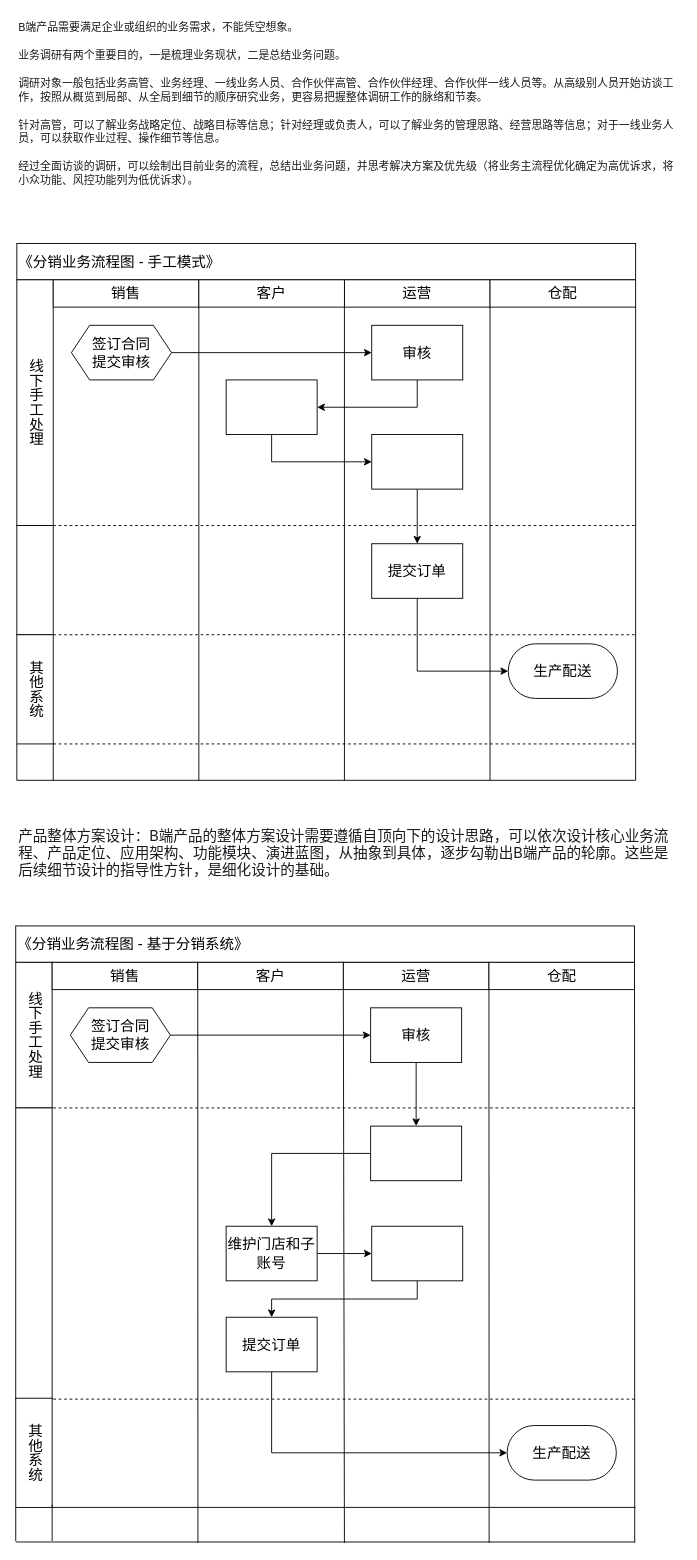
Image size: 697x1560. Some labels were removed from this diagram. The centre of each missing label's shape, as x and y in pixels:
"分销系统" goes at [33,1253].
"创建客户账号" goes at [416,1153].
"提交订单 (电话、邮件)" goes at [271,407].
"核实账期 计算价格" goes at [417,461].
"维护价格系数表" goes at [417,1253].
"订单系统" goes at [34,580].
